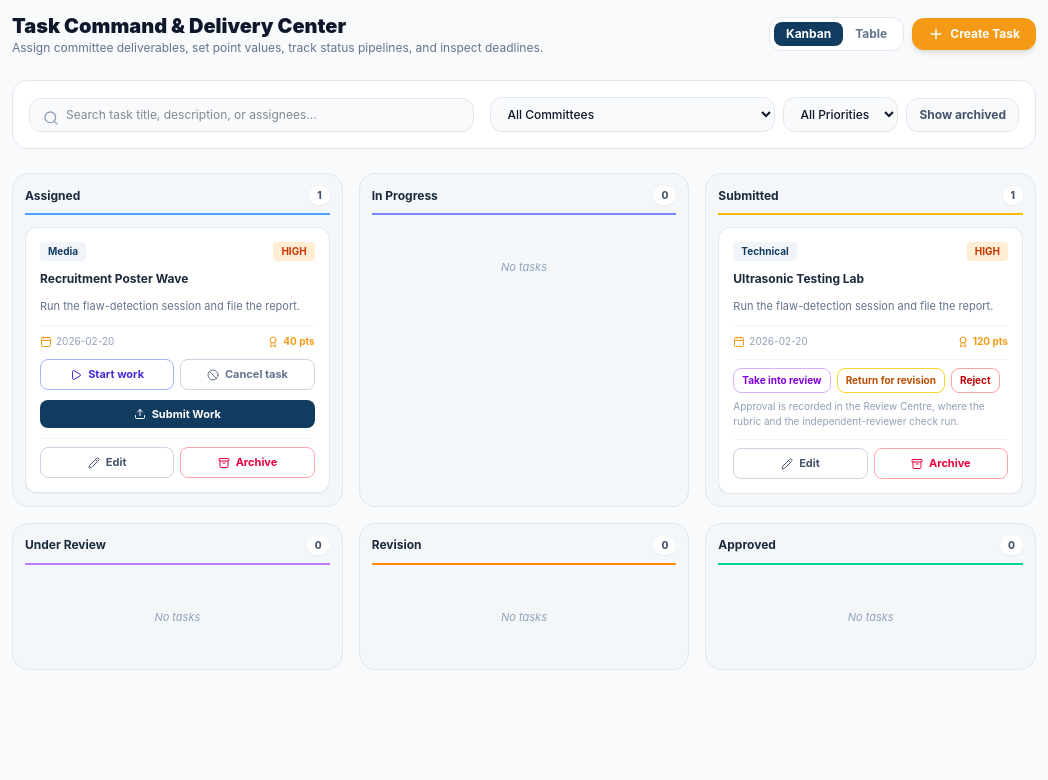
Test: the task table › turns the same two tasks into cards on a narrow screen
This screenshot has width=1048, height=780.
Click the button "Table" at (871, 34), box [843,22,899,46]
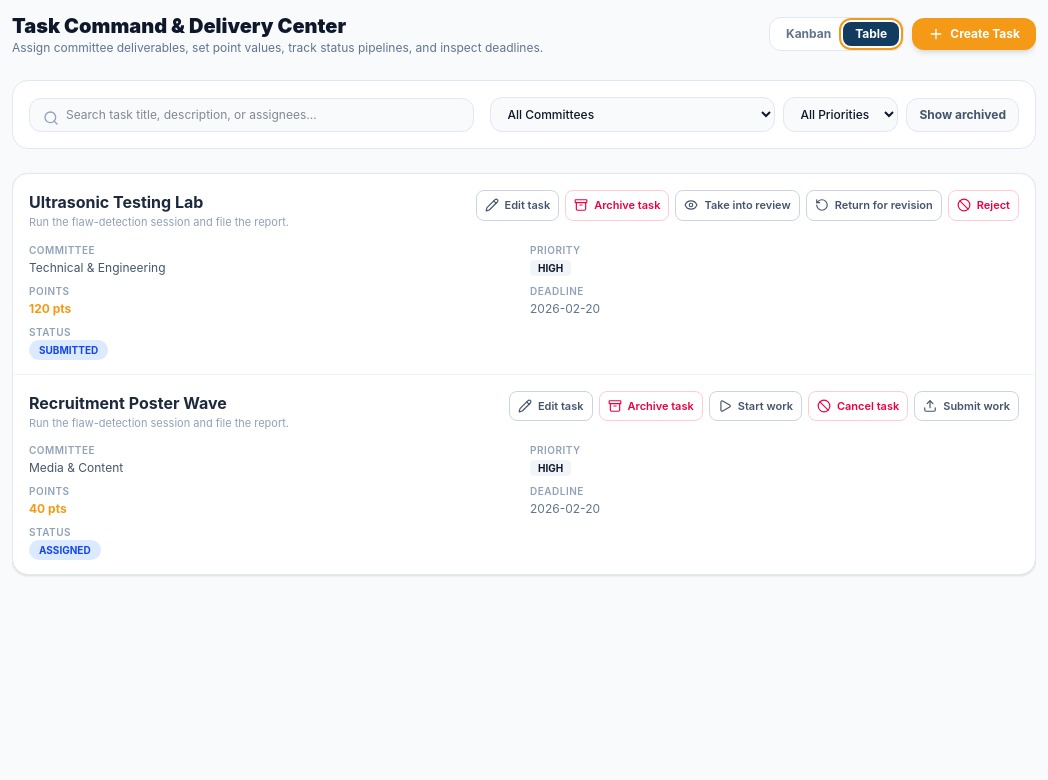
Expected: the number of list items is 2, [13,174,1035,374]; [13,374,1035,574]
Expected: the text "Deadline" is shown 2 times, [530,284,584,296]; [530,485,584,497]
